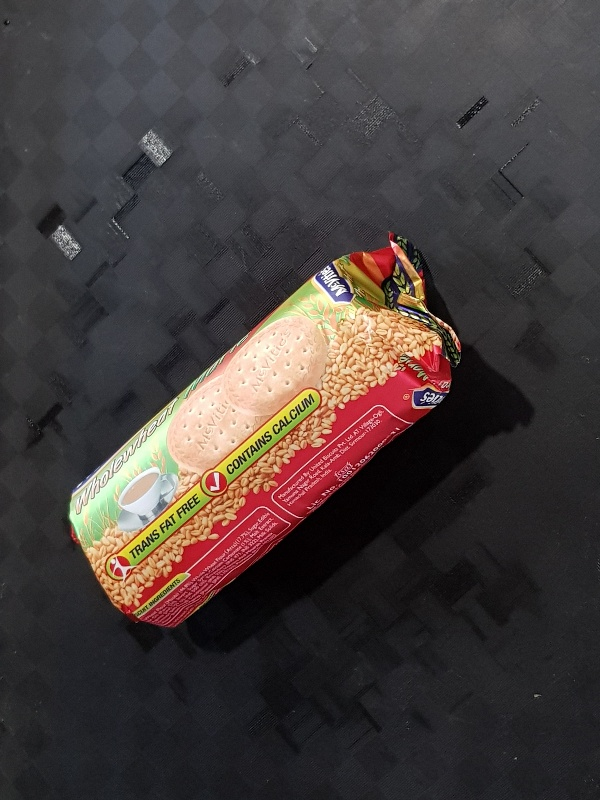McVitie's Wholewheat Marie: (64, 228, 462, 632)
